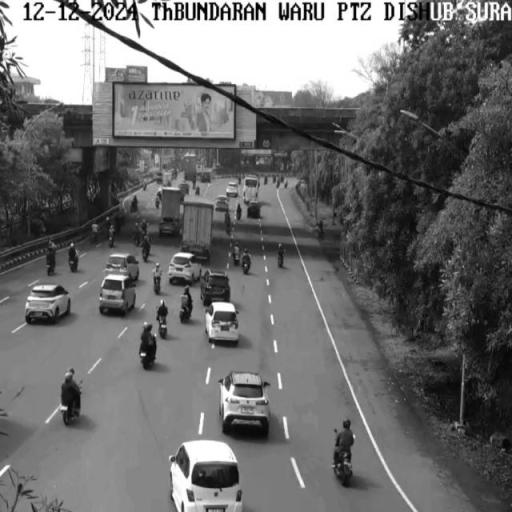bus: (244, 176, 261, 206)
car: (174, 440, 242, 512), (218, 371, 276, 436), (27, 276, 72, 326), (204, 299, 249, 345), (102, 267, 134, 319), (168, 248, 208, 286), (104, 246, 143, 284), (203, 268, 233, 300)
motorcycle: (332, 412, 362, 482), (59, 371, 86, 430), (135, 316, 160, 372), (175, 283, 197, 322), (66, 235, 84, 281), (154, 296, 172, 339), (40, 240, 59, 278), (274, 236, 292, 276), (226, 232, 244, 268), (239, 242, 256, 280), (128, 216, 145, 250), (151, 264, 166, 296), (104, 219, 120, 249), (131, 184, 143, 220), (140, 232, 152, 266), (221, 207, 235, 231), (137, 214, 152, 236)
truck: (181, 201, 217, 265), (157, 180, 185, 238)
